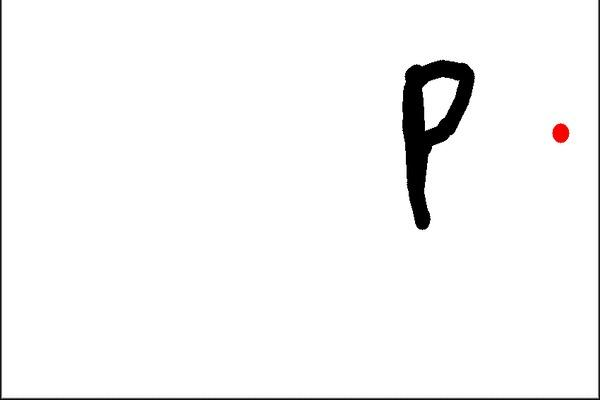P: (388, 50, 480, 240)
